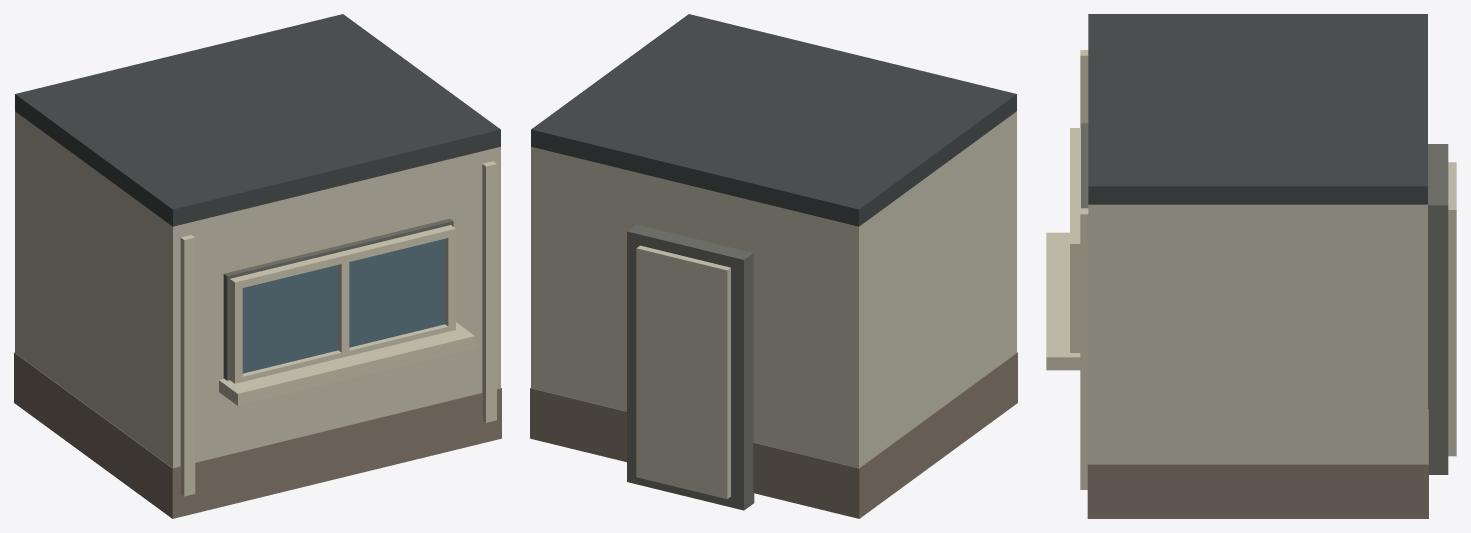
The model's file is kiosk_cream.glb.
3 renders of one model, left to right at view 1: azimuth 30°, elevation 25°; view 2: azimuth 150°, elevation 25°; view 3: azimuth 270°, elevation 25°, orthographic. The views are drawn at different scales.
Parts seen in each view (by area): view 1: kiosk_cream; view 2: kiosk_cream; view 3: kiosk_cream.
Part boxes in pixels (left/top/right/bottom): kiosk_cream: left=14, top=14, right=501, bottom=518; kiosk_cream: left=530, top=14, right=1017, bottom=518; kiosk_cream: left=1046, top=14, right=1456, bottom=518.
Bounding box in the file's own units: 3.01 × 2.8 × 3.02.
